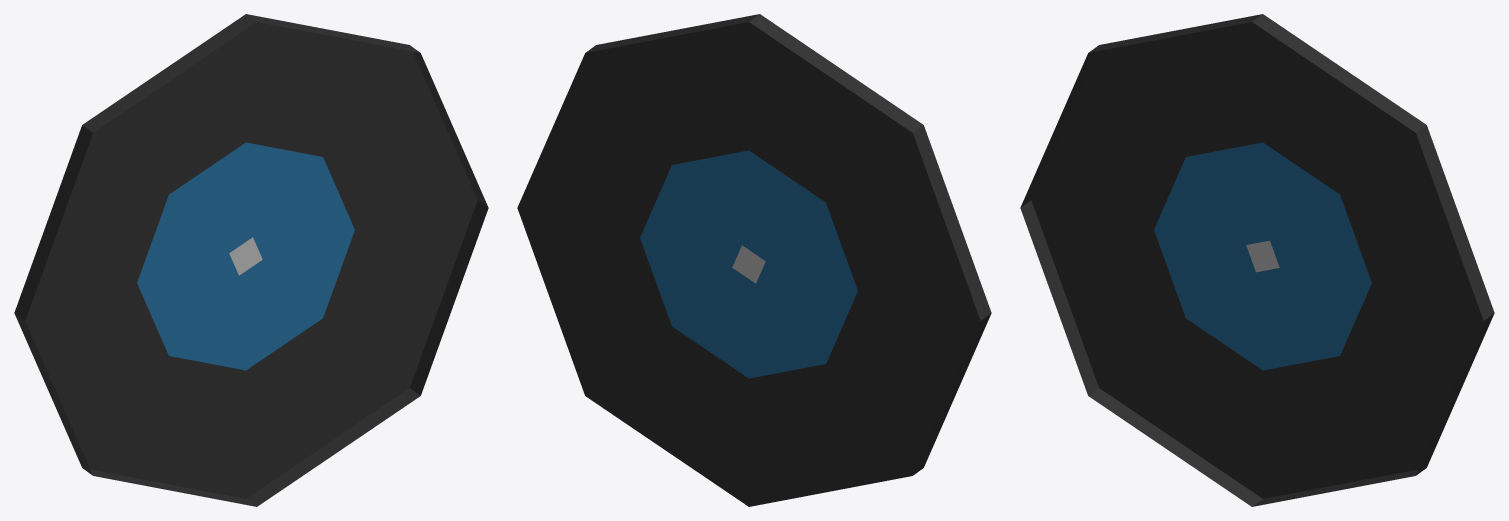
File: disc06.fbx
3 views of the same model, side by side, from view 1: azimuth 30°, elevation 25°; view 2: azimuth 150°, elevation 25°; view 3: azimuth 330°, elevation 25° (orthographic).
Parts seen in each view (by area): view 1: disc06; view 2: disc06; view 3: disc06.
Boxes of the visible parts, x1=… form: disc06: x1=14, y1=14, x2=488, y2=506; disc06: x1=517, y1=14, x2=991, y2=506; disc06: x1=1020, y1=14, x2=1494, y2=506.
Size of the model in its own units: 172 by 172 by 7.03.
